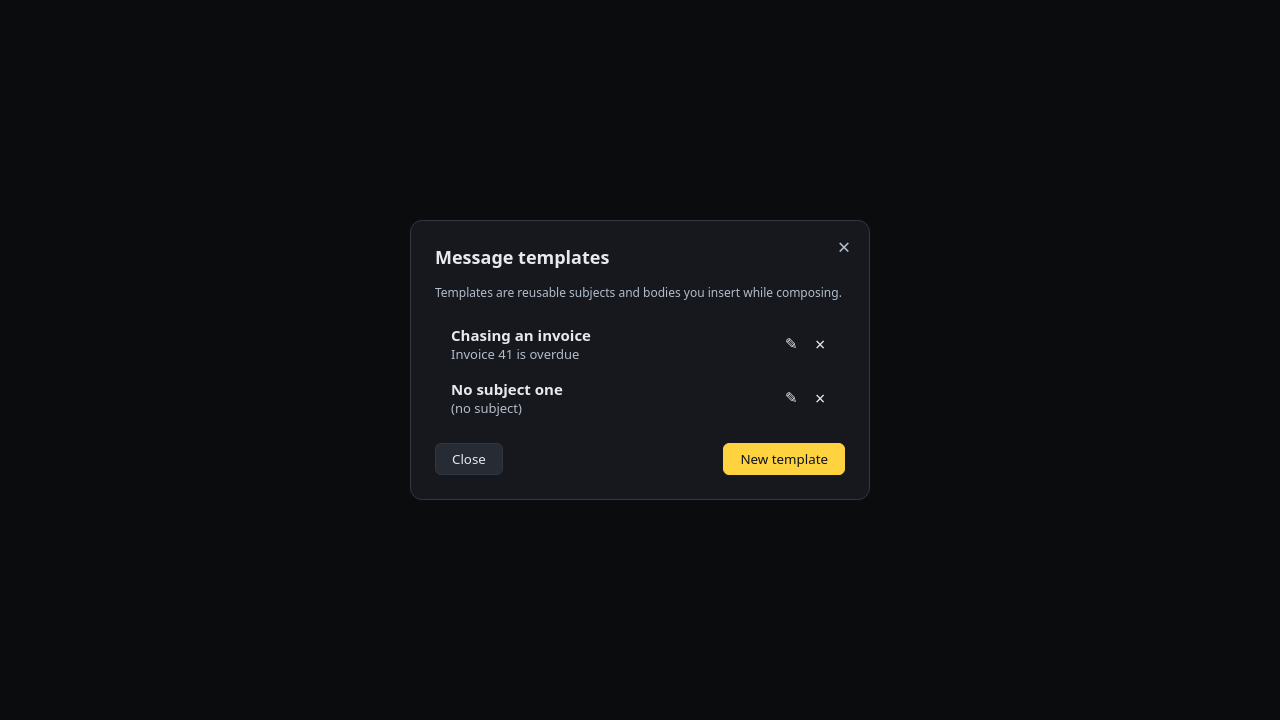
the template editor dialog › closes the editor and reports the change once a save lands
What coordinates should you click on to do the following:
click the button named "Edit Chasing an invoice"
I would click on:
 (790, 344)
Its box is x1=779 y1=333 x2=801 y2=355.
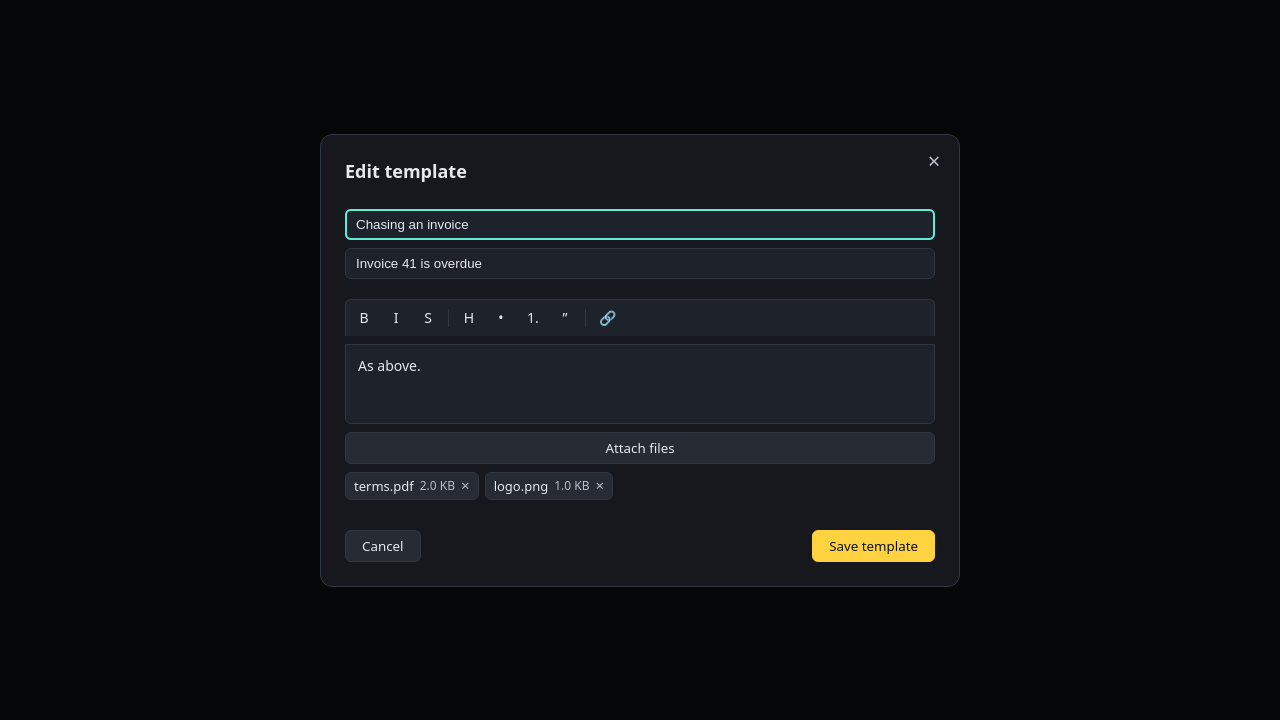
expect the dialog "Edit template" is shown: met, box x1=320 y1=134 x2=960 y2=586
What coordinates should you click on to do the following:
click the button "Save template"
I would click on:
 (874, 546)
Its box is x1=812 y1=530 x2=935 y2=562.
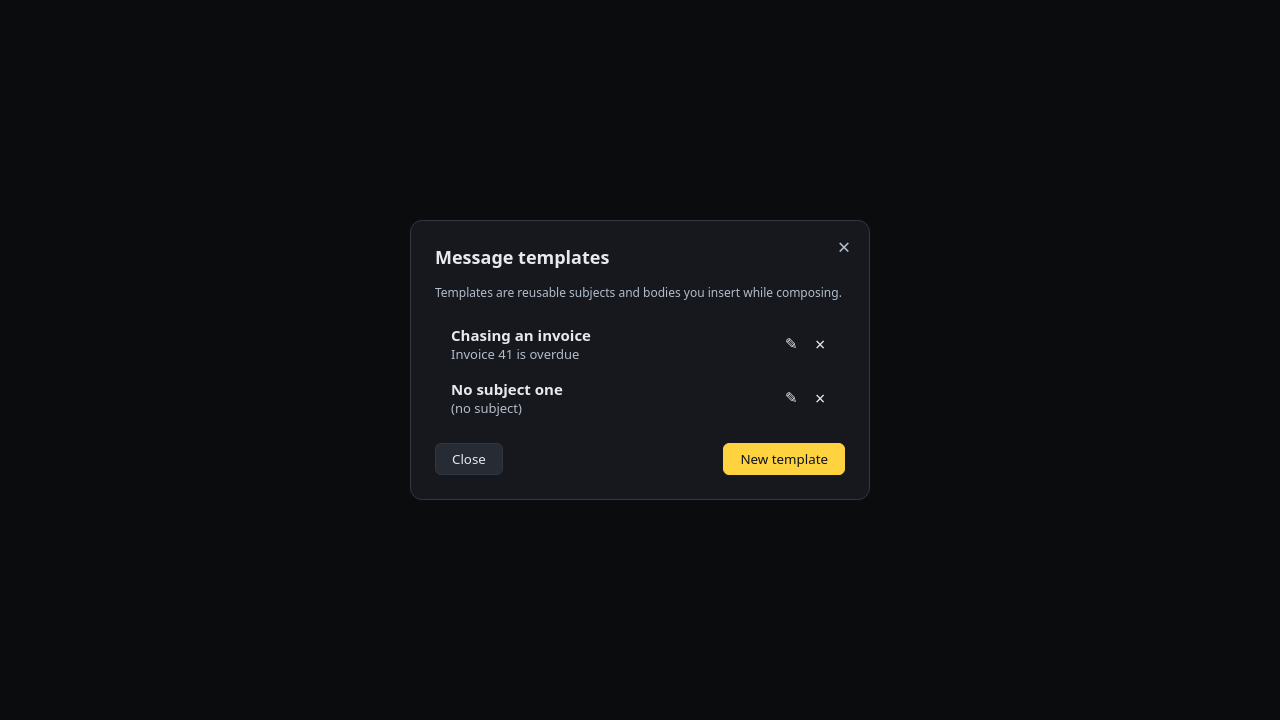
expect the heading "Edit template" is gone: met
